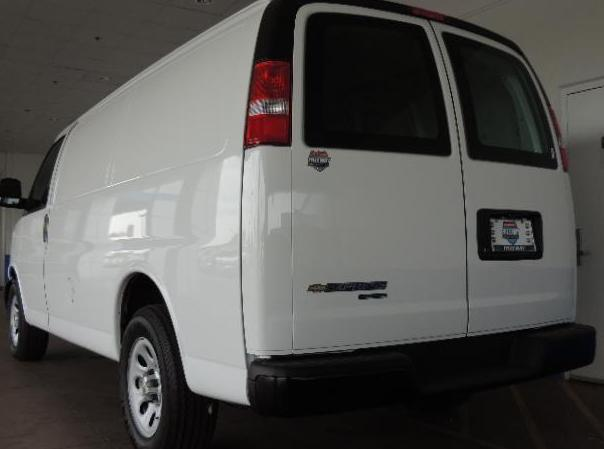back_view: (252, 3, 594, 411)
backlight: (245, 49, 298, 159)
side_glass: (23, 131, 68, 223)
